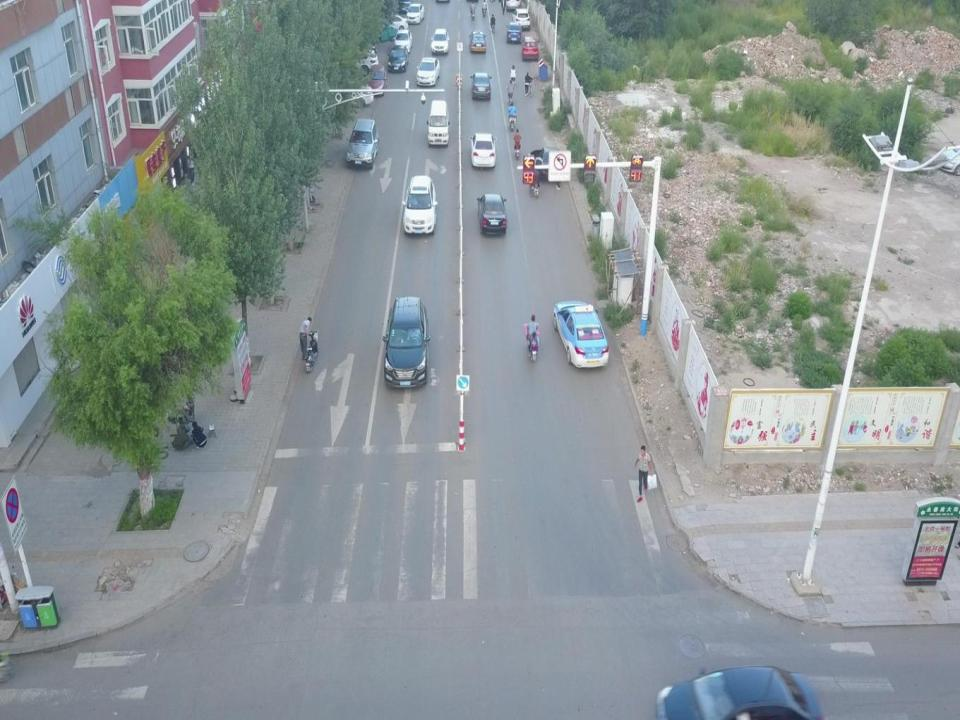car: (656, 665, 824, 720), (382, 296, 430, 388), (402, 175, 437, 234), (346, 119, 378, 170), (320, 81, 373, 107), (476, 194, 507, 234), (336, 50, 378, 76), (530, 147, 560, 181), (470, 132, 496, 168), (416, 56, 440, 86), (366, 65, 387, 97), (469, 72, 492, 100), (387, 45, 408, 73), (430, 28, 450, 55), (376, 15, 408, 31), (393, 29, 412, 53), (469, 29, 487, 53), (522, 37, 539, 60), (512, 9, 530, 30), (406, 3, 424, 23), (505, 22, 521, 43)
van: (554, 301, 608, 368), (427, 100, 450, 147)
